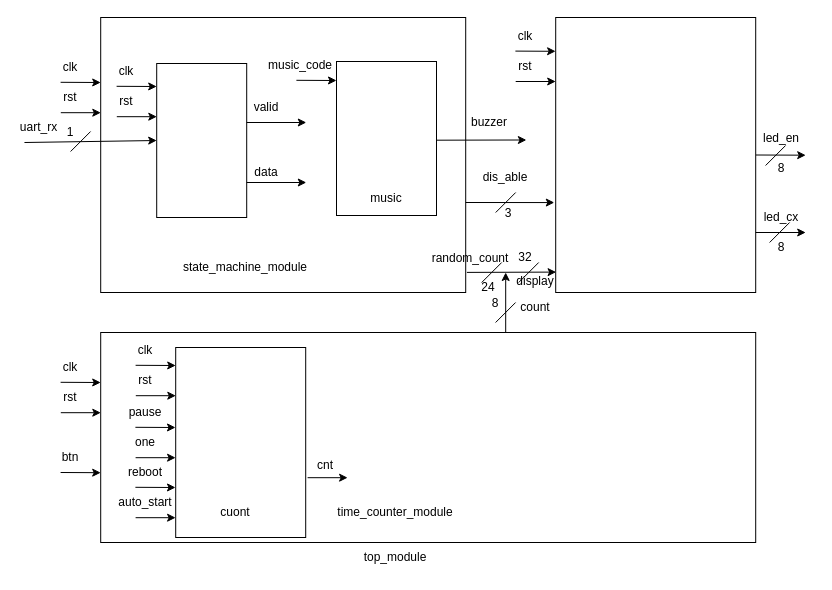
The diagram is 832 pixels wide and 590 high, and some of its shapes have lost their labels. The shapes that lost their labels are listed below. From the top down, each one's box as (x1, y1, x2, y2) in pixels, then its label:
(156, 62, 247, 218): uart_recv
(555, 16, 756, 292): led_ctrl_unit_module
